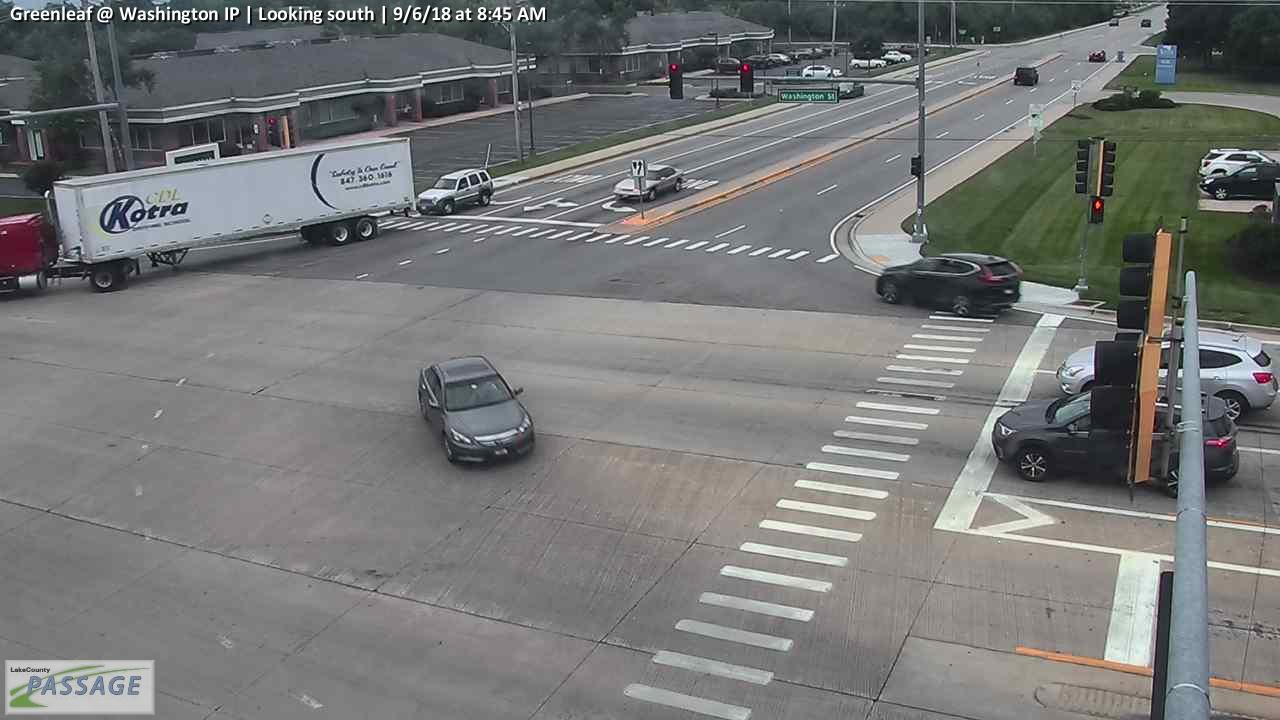SUV: (413, 167, 494, 217)
Sedan: (991, 388, 1238, 502), (1052, 325, 1279, 423), (418, 355, 535, 466), (876, 250, 1024, 314), (1197, 161, 1280, 198), (611, 162, 685, 203), (1197, 148, 1280, 181), (800, 65, 842, 77), (850, 55, 887, 68), (879, 50, 912, 64)
Truck: (1, 139, 415, 295)
